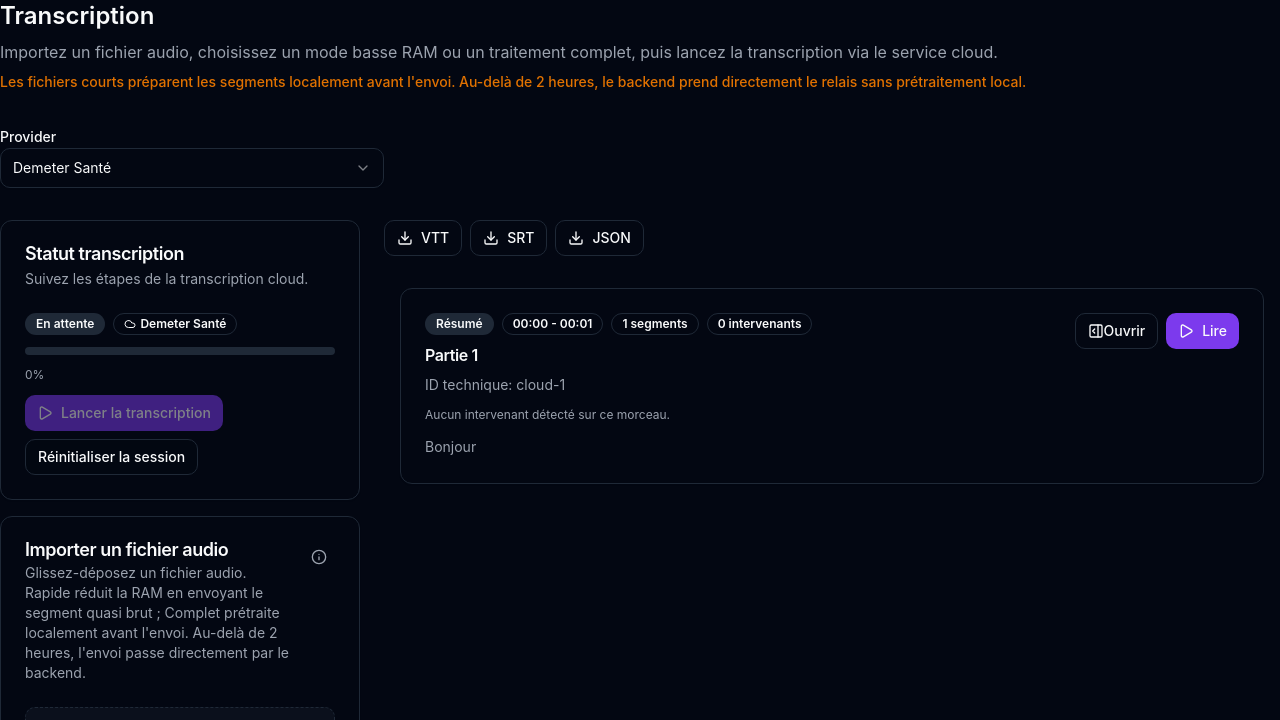
CloudUploadPage › allows editing a cloud segment from the table
Click the button "Ouvrir" at (1116, 331), box [1074,313,1158,349]
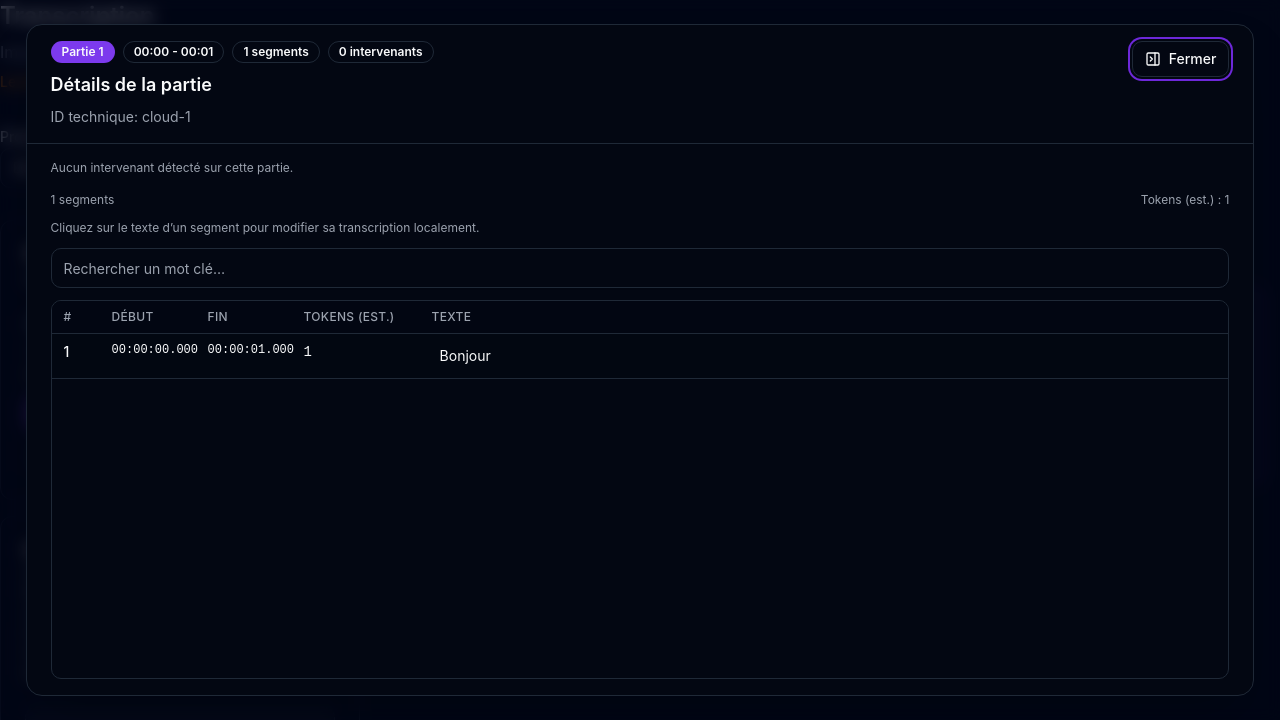
expect the button with aria-label "modifier le segment 1" is shown: met
Click the button with aria-label "modifier le segment 1" at (465, 356), box [432,342,984,370]
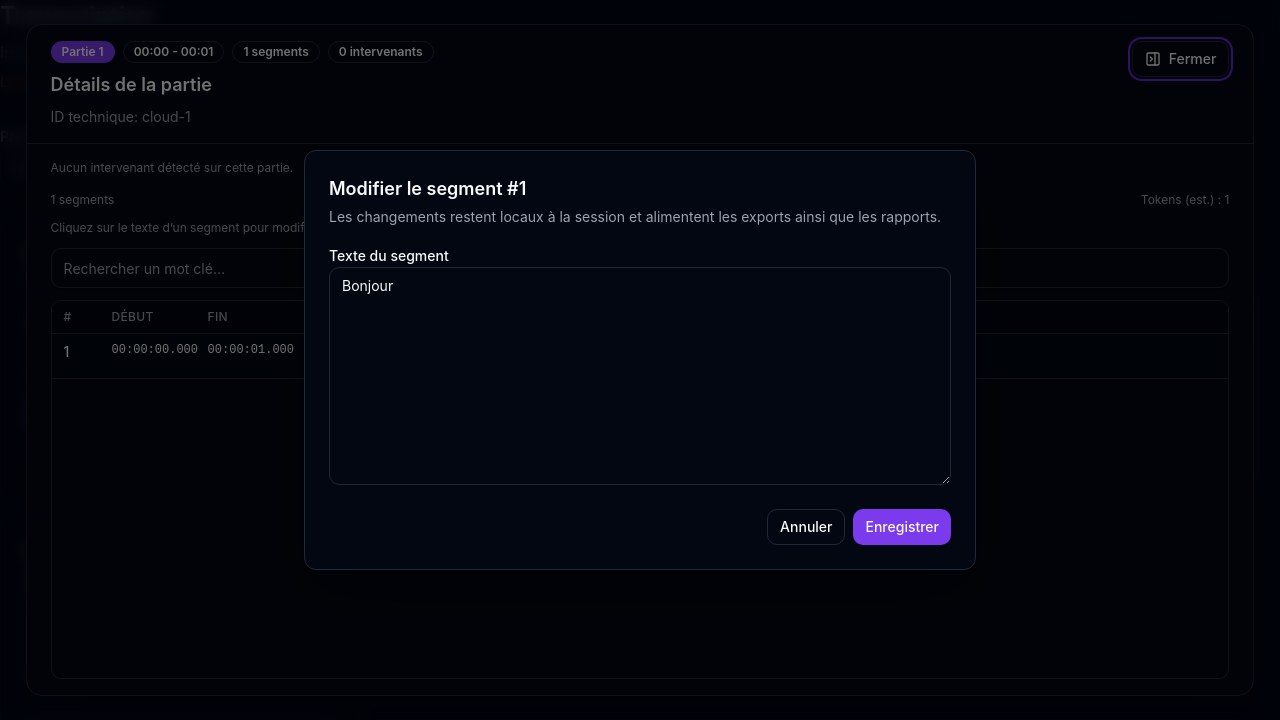
expect the dialog "Modifier le segment #1" is shown: met, box [304,150,976,570]
Replace the text in the text box labelled "Texte du segment" with "Texte cloud modifié" at (640, 376), box [329,267,951,485]
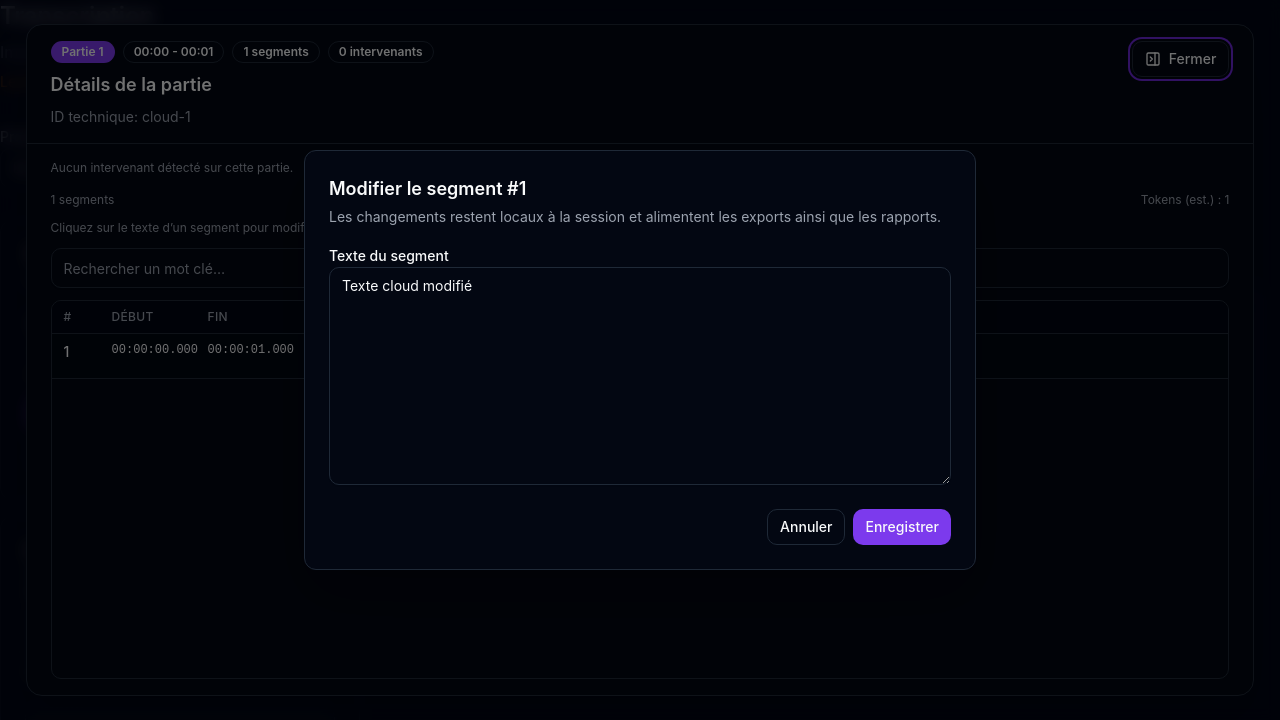
Click the button "Enregistrer" at (902, 527), box [854,509,951,545]
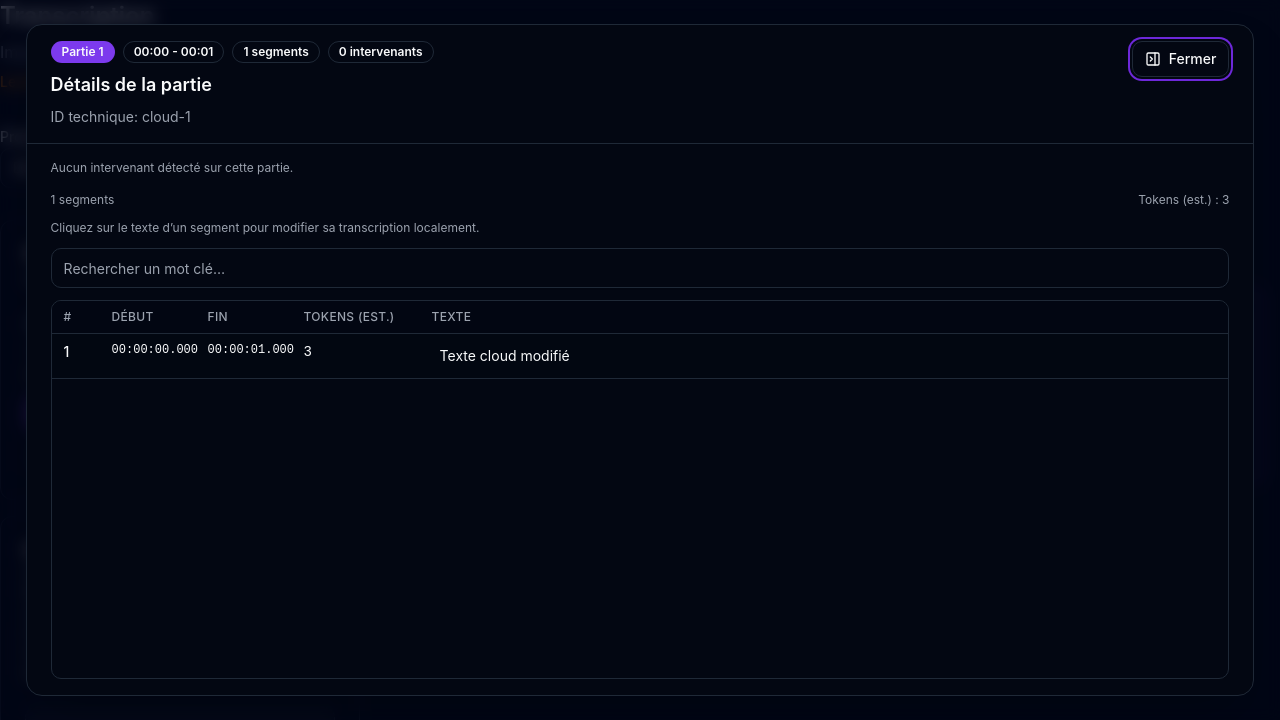
expect the text "Texte cloud modifié" is shown: met, box [440,347,570,364]
